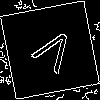V: (25, 25, 79, 83)
